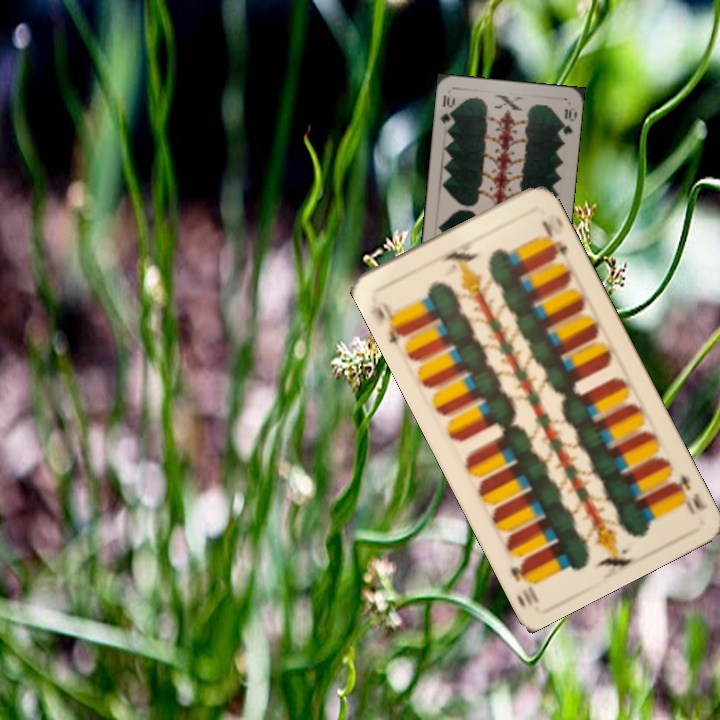E10: (367, 293, 410, 348), (666, 470, 708, 517)
G10: (436, 91, 458, 126)
